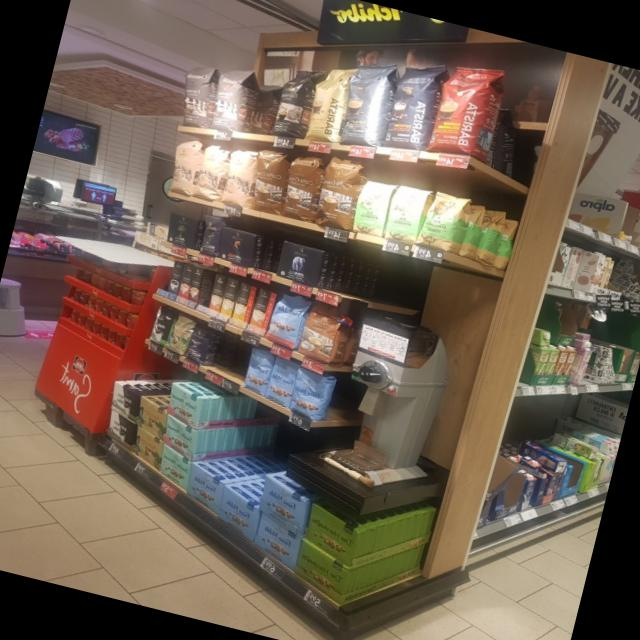AB Gemahlen: (272, 237, 326, 288)
Athiopien Bohne: (413, 188, 472, 253)
Athiopien Gemahlen: (380, 182, 430, 244), (350, 176, 396, 238)
BM Bohne: (194, 210, 224, 257)
BM Gemahlen: (163, 209, 201, 251)
BW Bohne: (145, 303, 176, 347)
BW Gemahlen: (104, 408, 137, 452), (108, 380, 140, 422)
Barista CB: (301, 63, 355, 144)
Barista CC: (335, 57, 397, 147)
Barista Espresso: (379, 61, 445, 150)
Barista Kolumbien: (424, 54, 508, 163)
C Fino Bohne: (182, 322, 215, 366)
CC Mild: (216, 143, 259, 211), (191, 140, 230, 203), (163, 135, 203, 196)
CC Vollmundig: (294, 307, 343, 366)
CC Vollmundig 36 Pads: (310, 153, 367, 232), (278, 152, 323, 222), (248, 146, 287, 215)
Colombia BB Bohne: (163, 312, 195, 357)
Colombia BB Gemahlen: (135, 396, 167, 441), (134, 425, 163, 469)
Espresso Aromatisch: (205, 60, 258, 133), (176, 57, 218, 128)
Espresso Kraftig: (264, 62, 319, 139)
FM 36 Pads: (260, 292, 309, 353)
FM Bohne: (286, 364, 330, 423), (262, 354, 299, 409), (238, 344, 274, 397)
FM Gemahlen: (256, 472, 307, 537), (252, 511, 301, 572), (215, 484, 259, 541), (184, 461, 223, 515)
Herzhatfe Mundig: (292, 538, 348, 603), (305, 502, 360, 566)
LG Gemahlen: (215, 224, 260, 269)
SM Gemahlen: (165, 382, 200, 429), (162, 414, 196, 460), (158, 443, 191, 490)
Simo CCMild: (229, 281, 256, 329)
Simo CCMild bigpack: (218, 277, 239, 322)
Simo CCVollmundig: (246, 287, 276, 335)
Simo CCVollmundig bigpack: (204, 273, 226, 318)
Simo Es Brazil: (175, 262, 194, 305)
Simo Es Caramel: (184, 265, 204, 309)
Simo Es Kraft: (165, 259, 184, 301)
